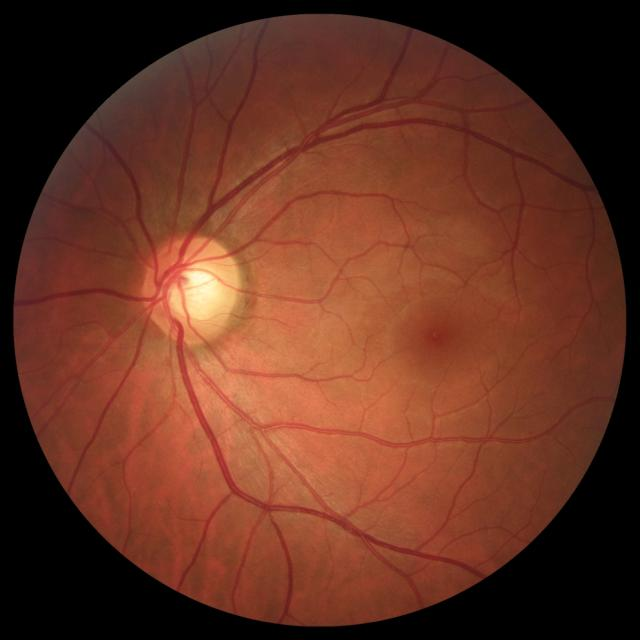OC: (167, 263, 219, 317)
OD: (144, 233, 242, 342)
